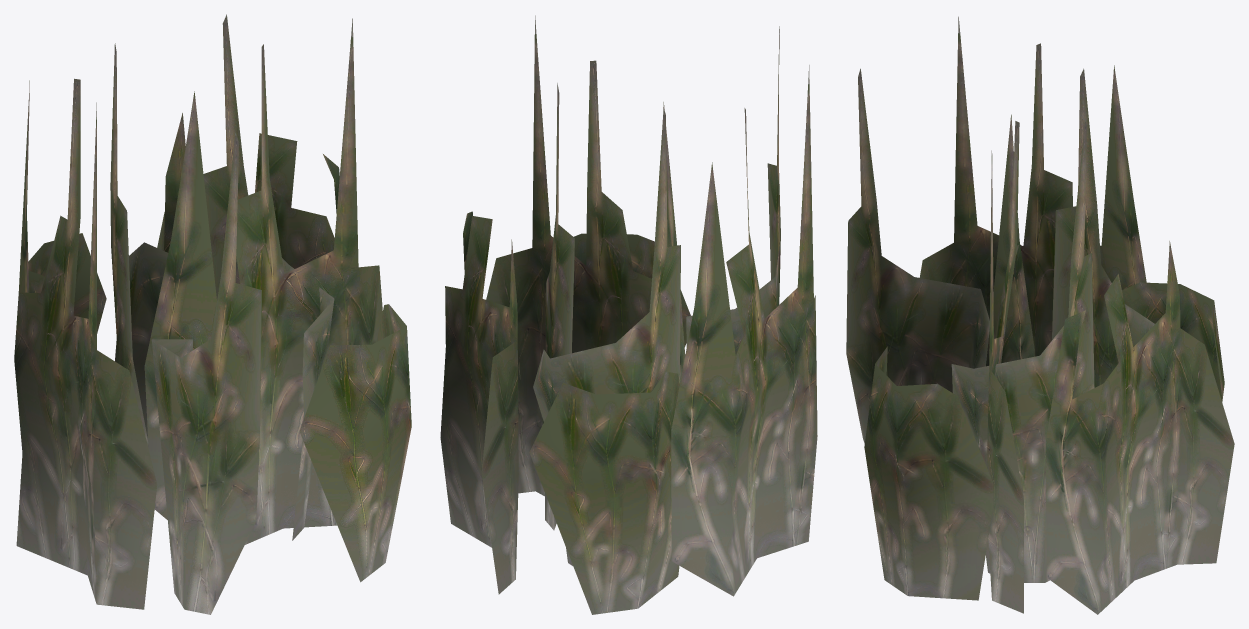
File: proc_sml_reeds_01.FBX
The picture shows the model from 3 angles, left to right: view 1: azimuth 30°, elevation 25°; view 2: azimuth 150°, elevation 25°; view 3: azimuth 270°, elevation 25°; orthographic projection. The views are drawn at different scales.
Visible parts, largest first — view 1: proc_sml_reeds_01; view 2: proc_sml_reeds_01; view 3: proc_sml_reeds_01.
Boxes of the visible parts, bbox=[...] form: proc_sml_reeds_01: bbox=[14, 14, 411, 614]; proc_sml_reeds_01: bbox=[440, 15, 817, 614]; proc_sml_reeds_01: bbox=[846, 16, 1234, 614].
Size of the model in its own units: 1.57 by 1.75 by 2.32.
Materials: 1 (1 with a texture image).
